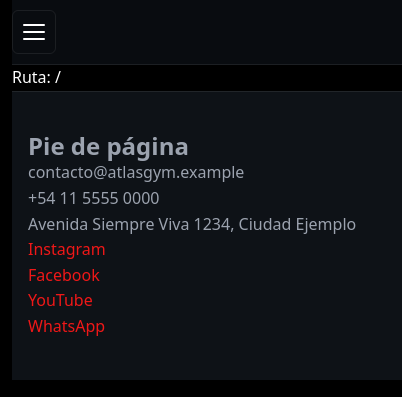
Test: Menú móvil › Dado el menú desplegado en ancho móvil, Cuando la ventana cruza el umbral de 768 px, Entonces el botón Menú deja de presentarse y los elementos quedan fijos
This screenshot has width=402, height=397.
Click the button named "Menú".
click(34, 32)  # box x1=12 y1=10 x2=56 y2=54
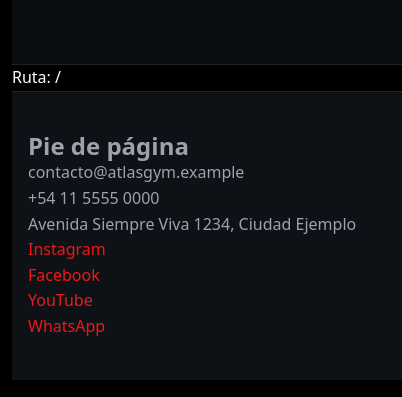
Now the button "Menú" is gone
